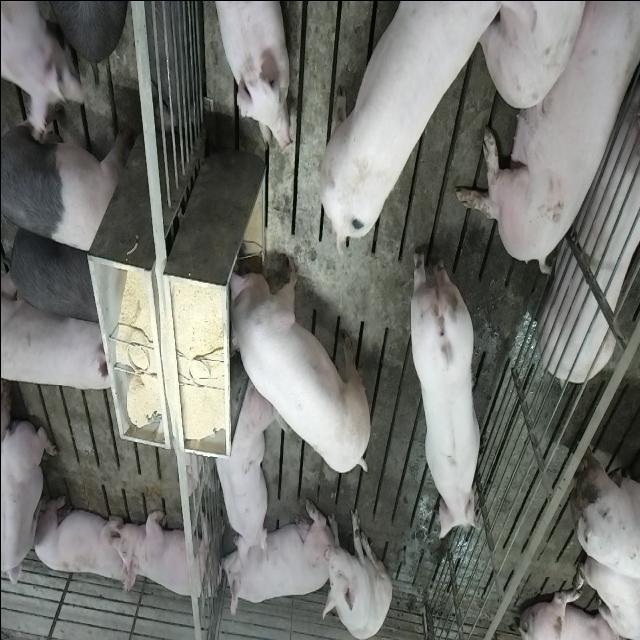Feeding: (219, 250, 367, 474)
Lateral_lying: (452, 4, 637, 278), (537, 58, 640, 384)
Sitting: (321, 504, 392, 638)
Standing: (314, 0, 516, 246), (410, 242, 486, 544), (1, 79, 126, 256), (2, 220, 108, 326), (2, 288, 111, 390)
Sternal_lying: (208, 0, 291, 153), (209, 376, 275, 560), (216, 507, 326, 615), (30, 491, 132, 589), (2, 414, 56, 598), (117, 503, 215, 602)
